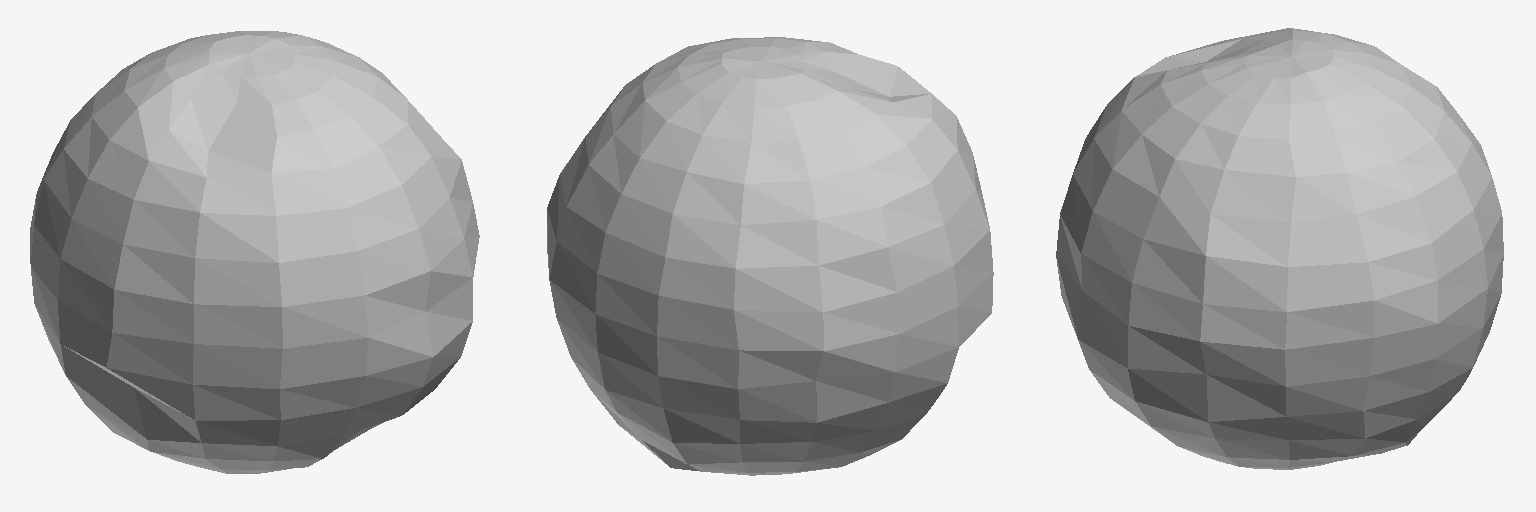
The model's file is moon_lores.obj.
3 views of the same model, side by side, from view 1: azimuth 30°, elevation 25°; view 2: azimuth 150°, elevation 25°; view 3: azimuth 270°, elevation 25° (orthographic).
Visible parts, largest first — view 1: Sphere; view 2: Sphere; view 3: Sphere.
Part boxes in pixels (left/top/right/bottom): Sphere: left=30, top=31, right=479, bottom=473; Sphere: left=547, top=37, right=993, bottom=475; Sphere: left=1056, top=28, right=1503, bottom=469.
Size of the model in its own units: 2.05 by 2.02 by 2.05.